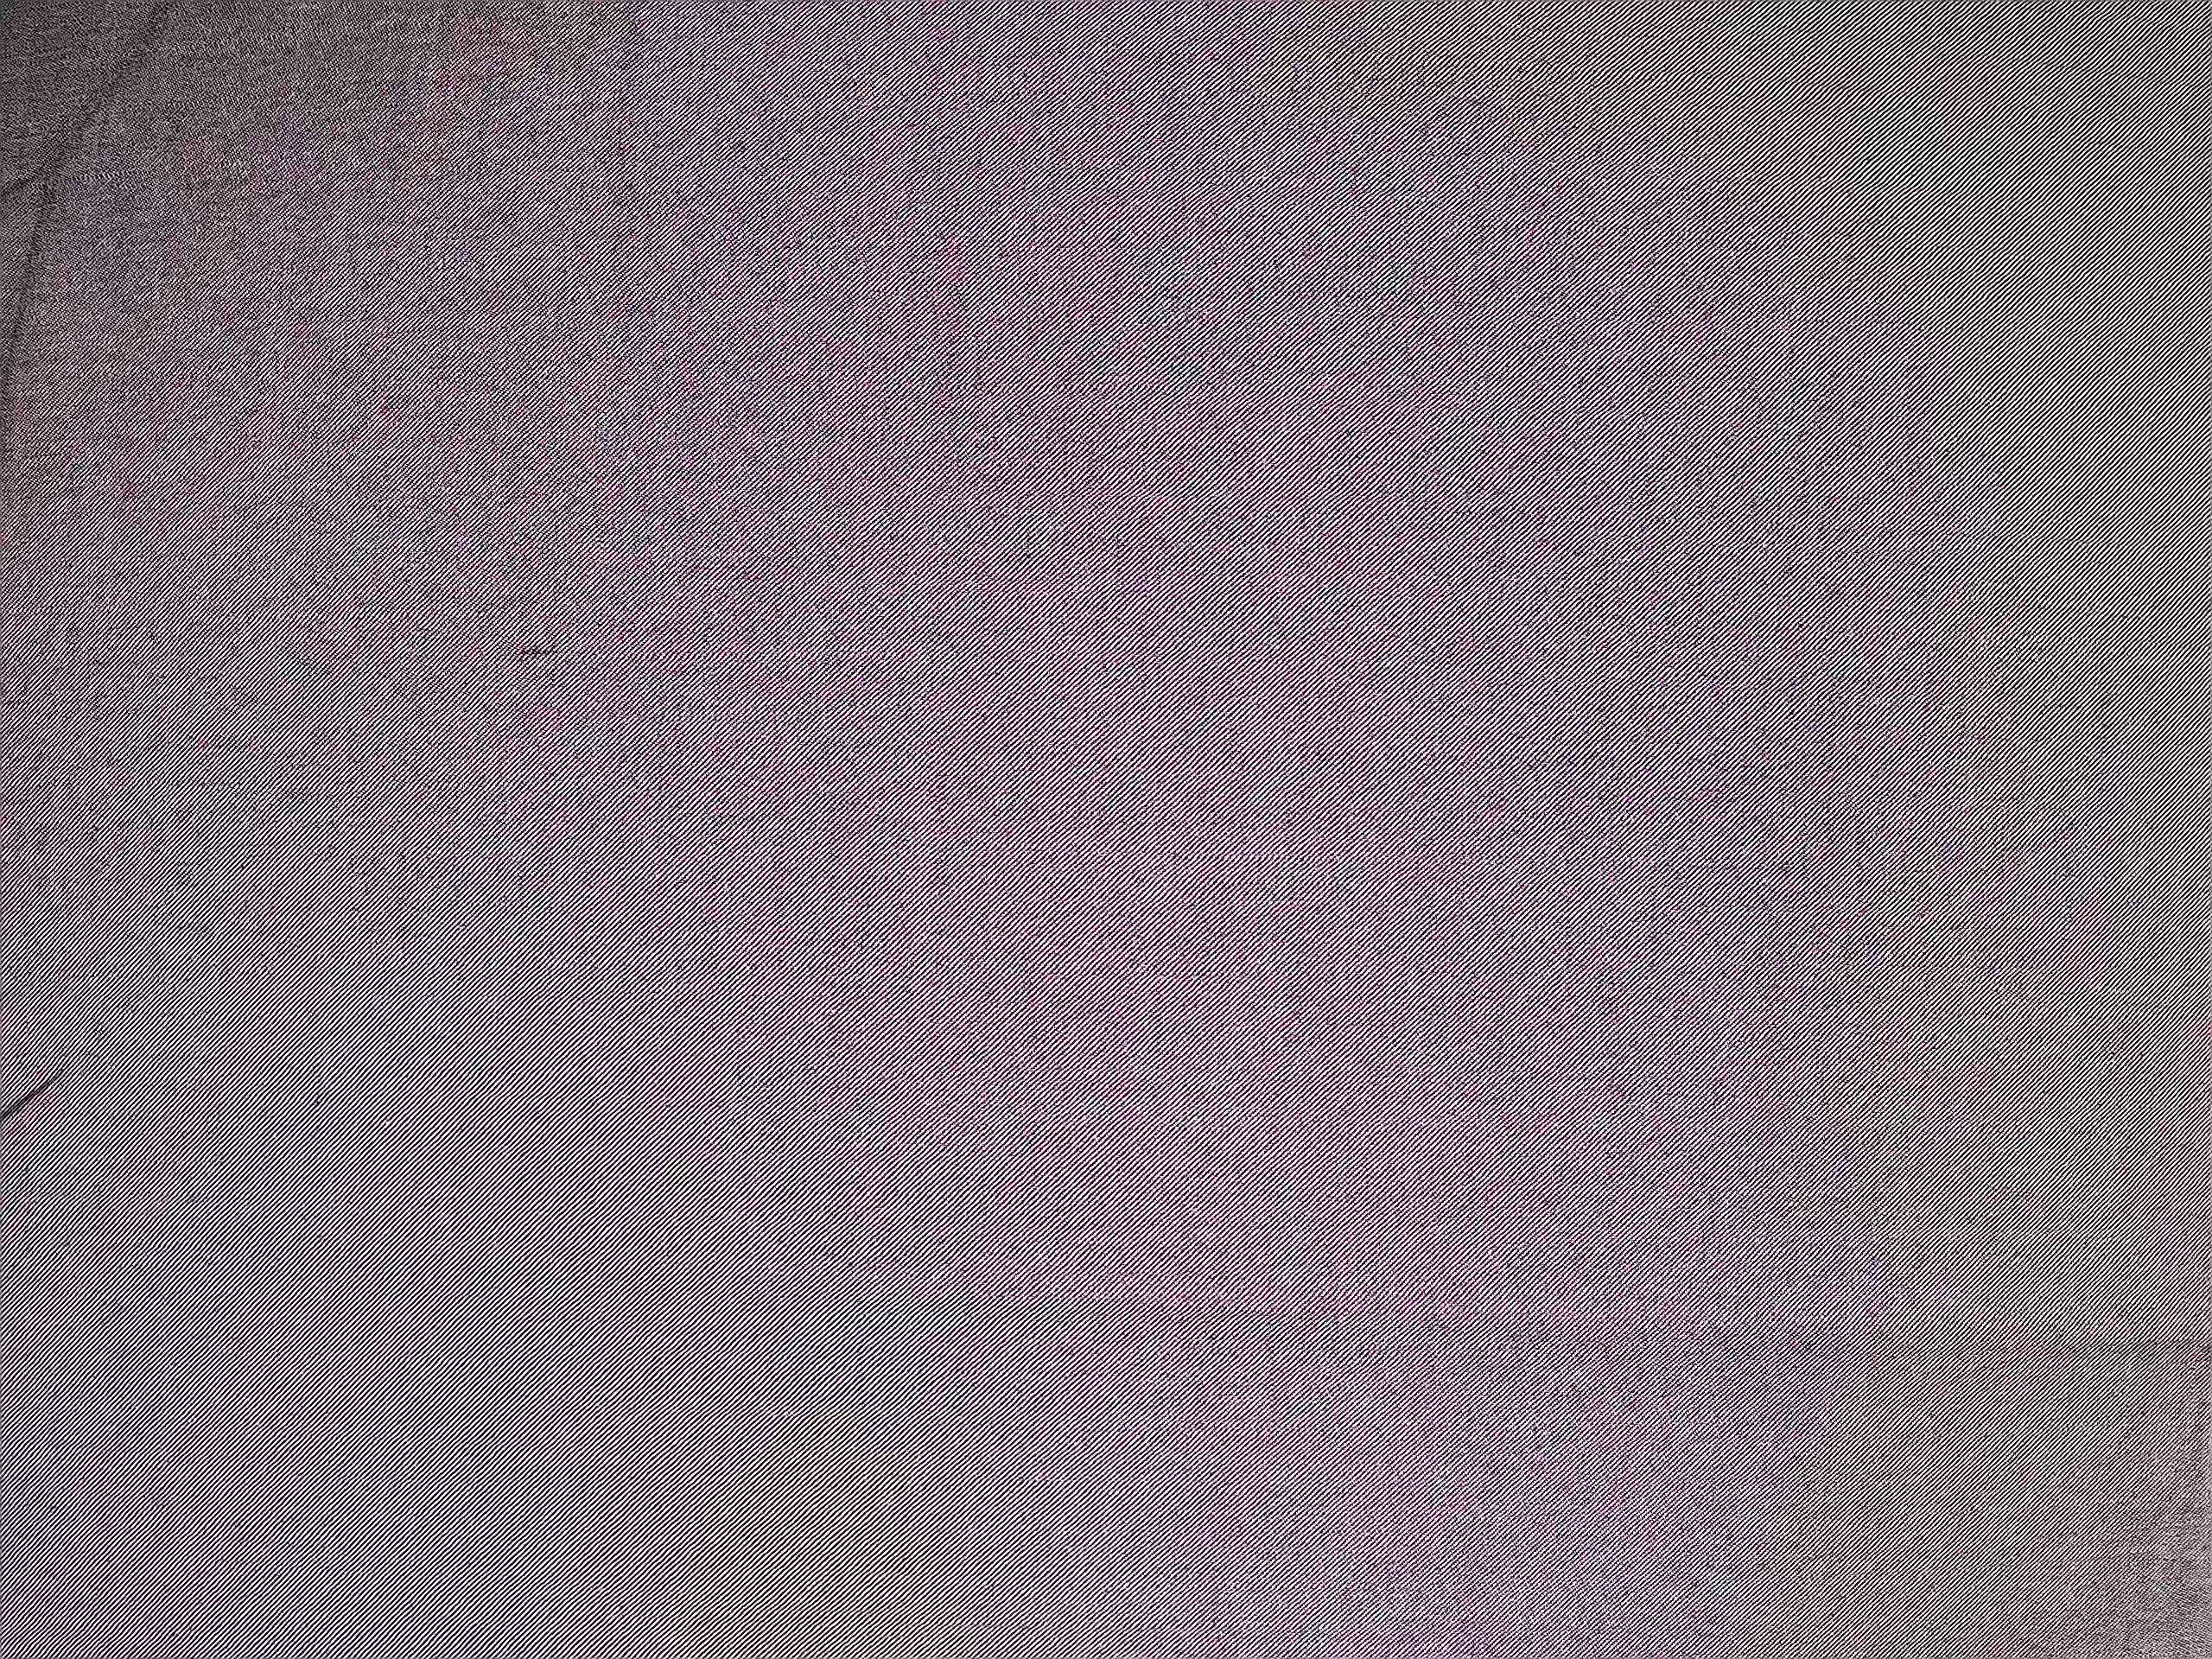thin-spinning: (495, 624, 582, 681)
